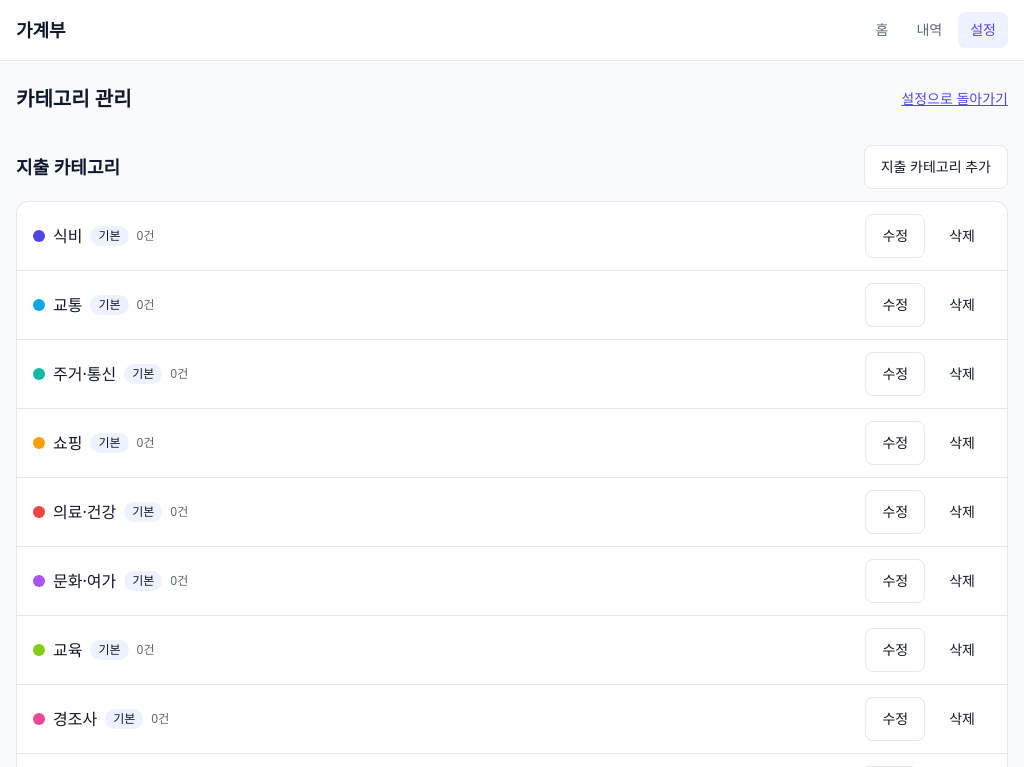
Test case: 카테고리 추가·수정 › 취소하면 변경하지 않는다
Expected: the heading "카테고리 관리" is shown, x1=16 y1=85 x2=132 y2=113
Click the button "지출 카테고리 추가" at (936, 167), box x1=864 y1=145 x2=1008 y2=189
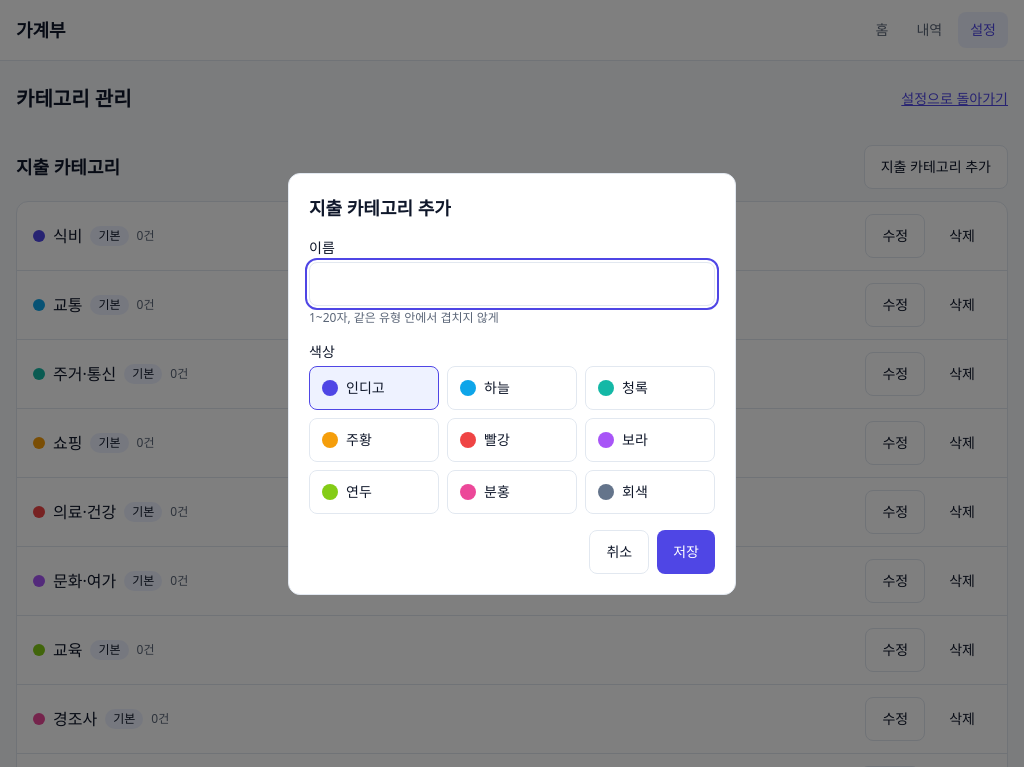
Type "취소할이름" into the field labelled "이름" at (512, 284), box x1=309 y1=262 x2=715 y2=306
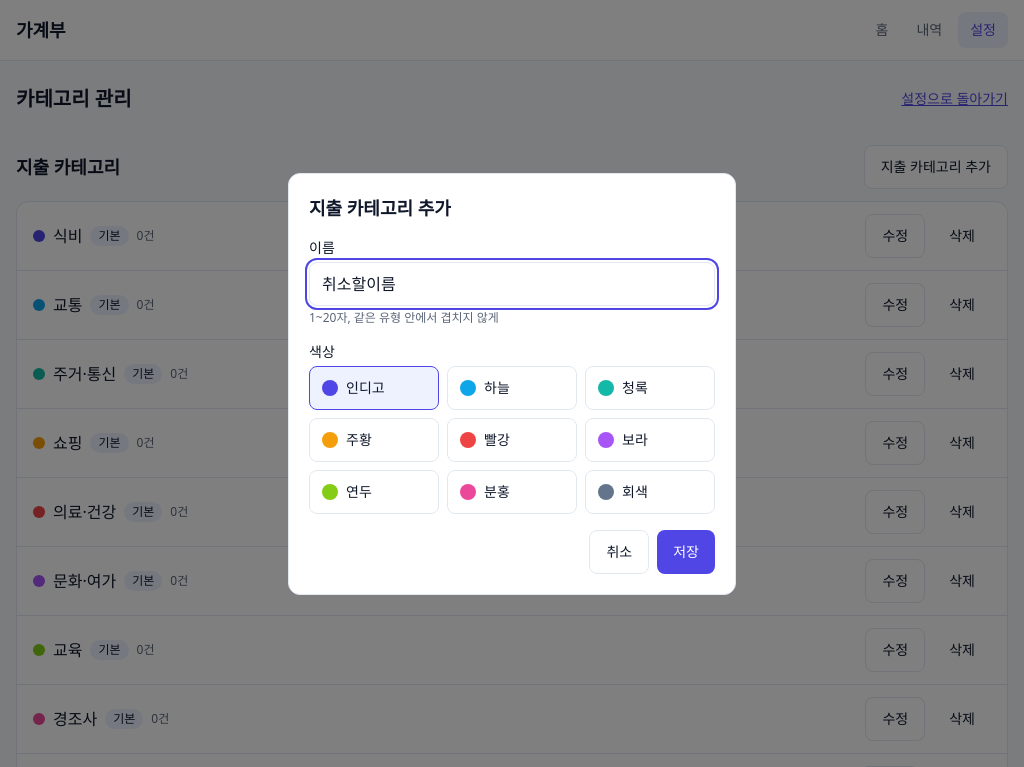
Click the button "취소" at (619, 552), box x1=590 y1=530 x2=649 y2=574
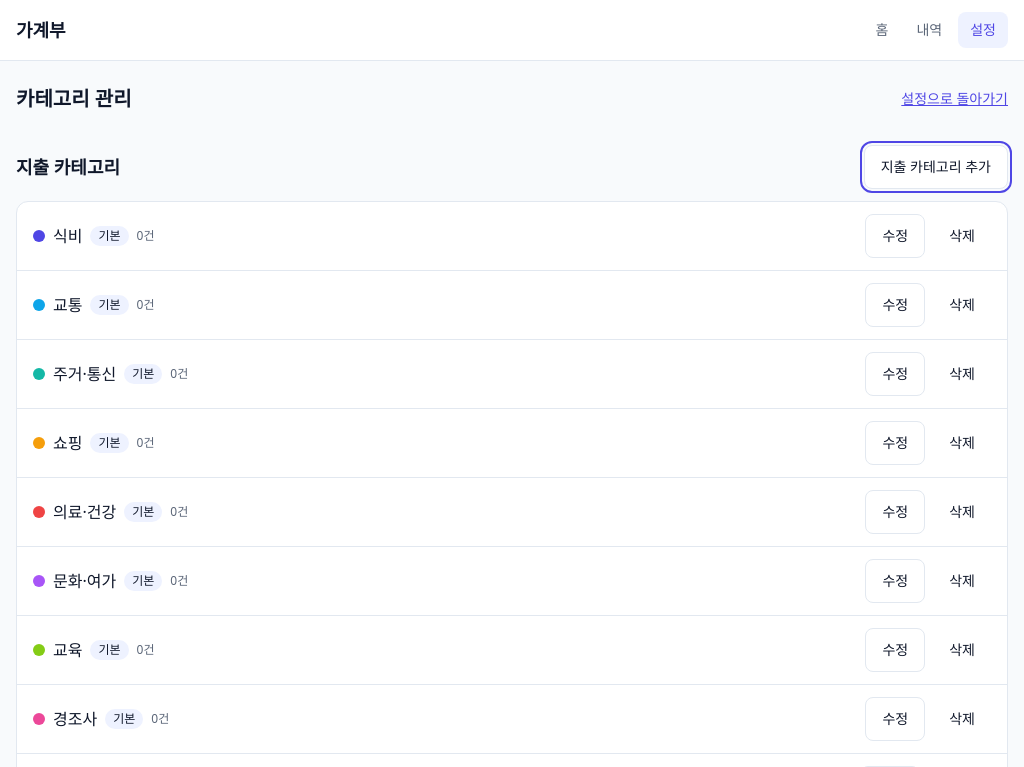
Now the dialog is gone
